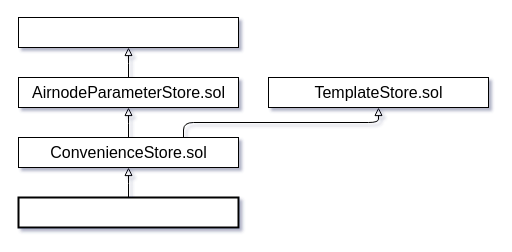
This 512x252 diagram has some shape labels left out. Here are the shapes that lost their labels. From the top down, the box of each, then its label:
(18, 16, 238, 48): RequesterStore.sol
(17, 196, 239, 228): AirnodeRrp.sol
